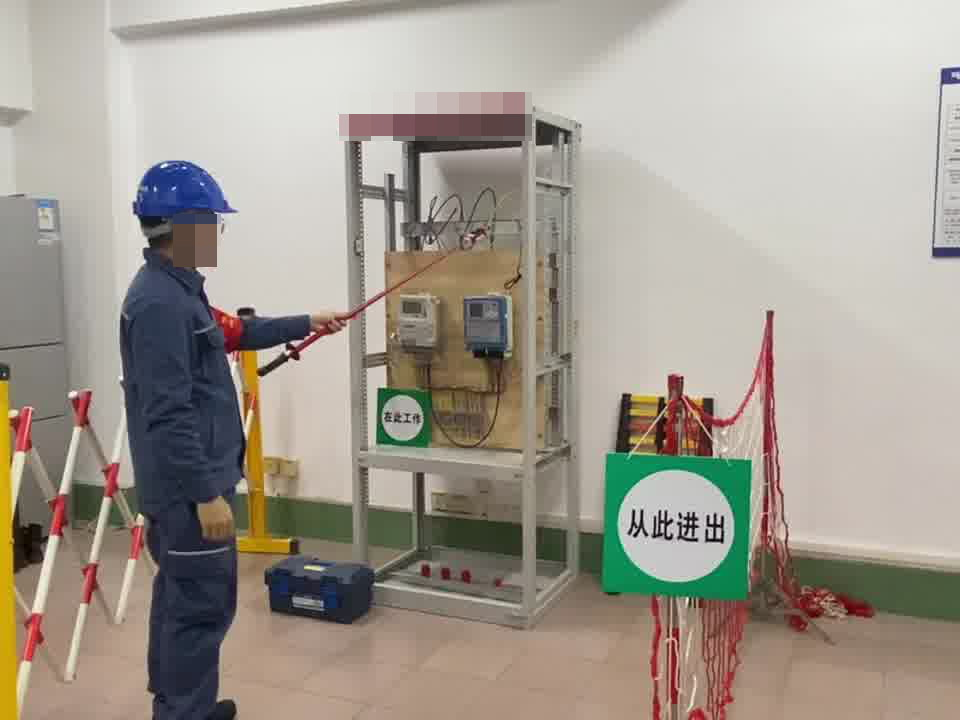badge: (208, 305, 244, 357)
downsuit: (141, 493, 242, 720)
halt: (134, 159, 235, 271)
hand: (195, 496, 235, 541), (313, 310, 352, 338)
inear: (171, 209, 208, 263)
intosign: (594, 445, 760, 609)
person: (108, 155, 358, 720)
testrod: (258, 222, 490, 378)
upsuit: (121, 265, 313, 495)
worksign: (370, 382, 434, 454)
wronghold: (279, 300, 383, 358)
